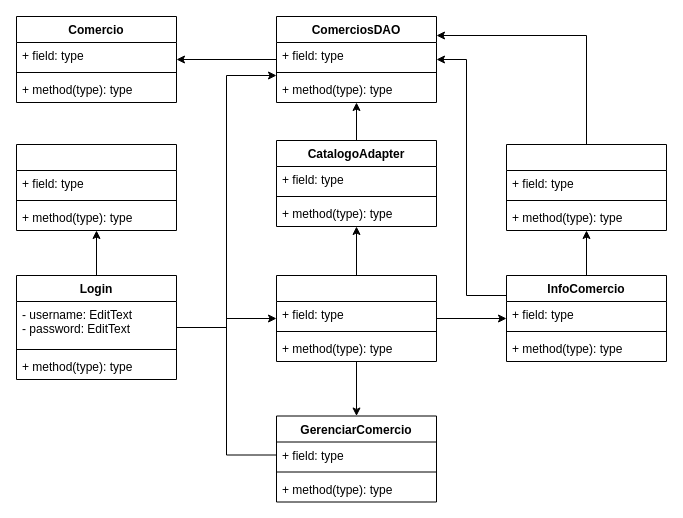
Image size: 683x518. Some labels were removed from this diagram. Here are the shapes that lost their labels. From the top down, the box of each, then its label:
(16, 144, 176, 230): LoginDAO
(506, 144, 666, 230): ProdutosAdapter
(276, 274, 436, 362): Catalogo
